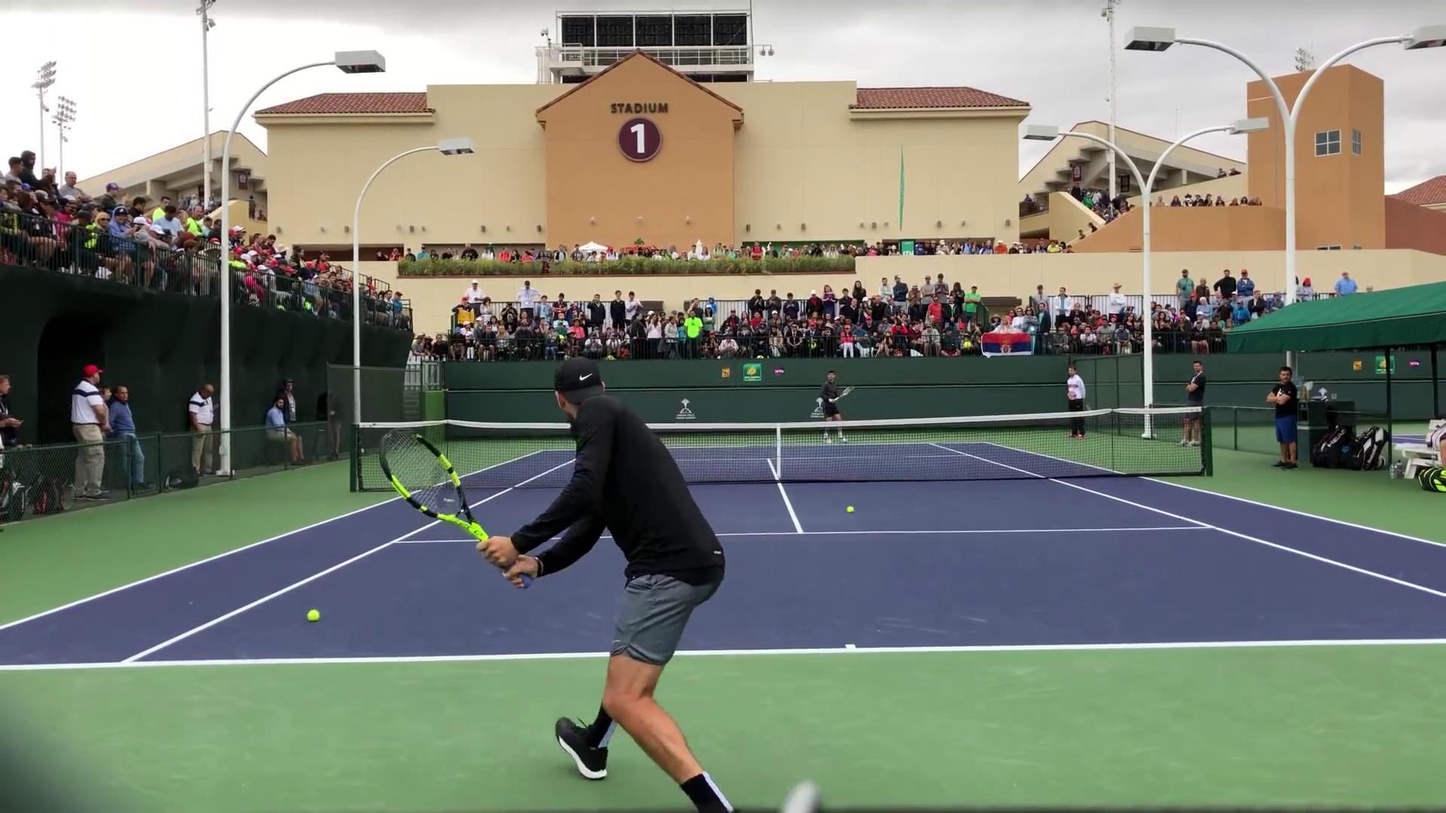ball: (307, 608, 320, 622), (846, 505, 853, 513)
